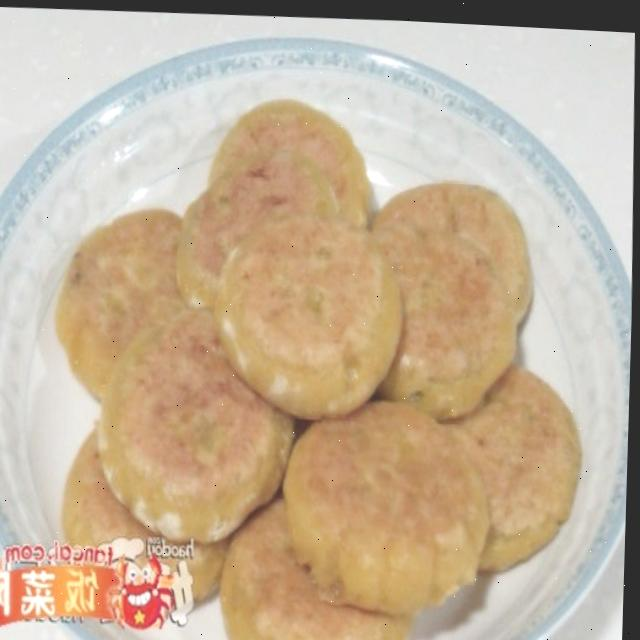炸货点心: (0, 39, 631, 640)
蛋糕甜品: (0, 39, 631, 640)
